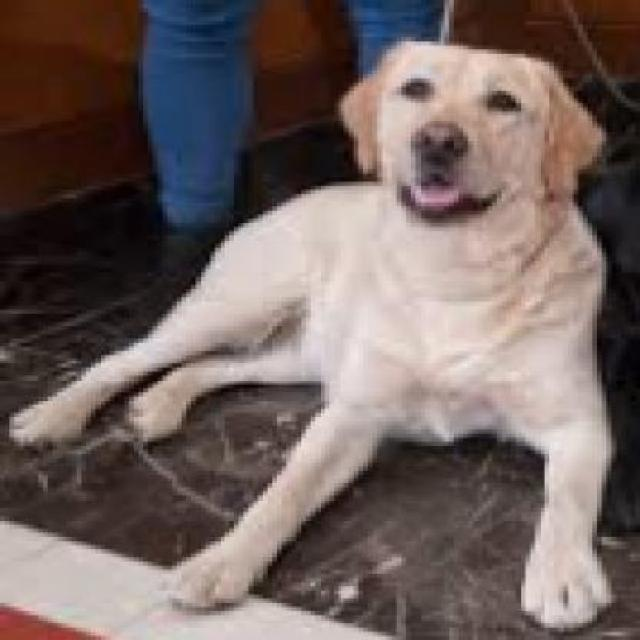Dog: (0, 33, 635, 632)
